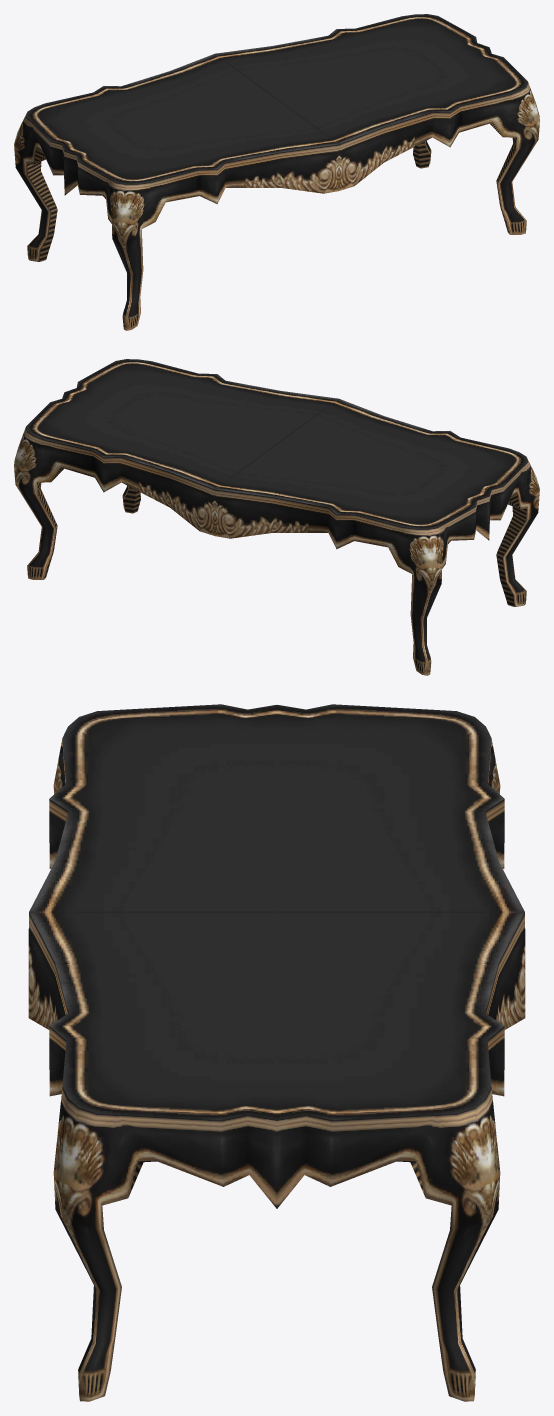
Rendered from furni_0200307.FBX.
3 views of the same model, one above another, from view 1: azimuth 30°, elevation 25°; view 2: azimuth 150°, elevation 25°; view 3: azimuth 270°, elevation 25° (orthographic). The views are drawn at different scales.
Visible parts, largest first — view 1: furni_0200307; view 2: furni_0200307; view 3: furni_0200307.
Part boxes in pixels (bbox=[...]): furni_0200307: bbox=[14, 14, 539, 330]; furni_0200307: bbox=[14, 359, 539, 675]; furni_0200307: bbox=[28, 704, 525, 1401].
Bounding box in the file's own units: 152 × 49.8 × 76.2.
1 material, 1 textured.
